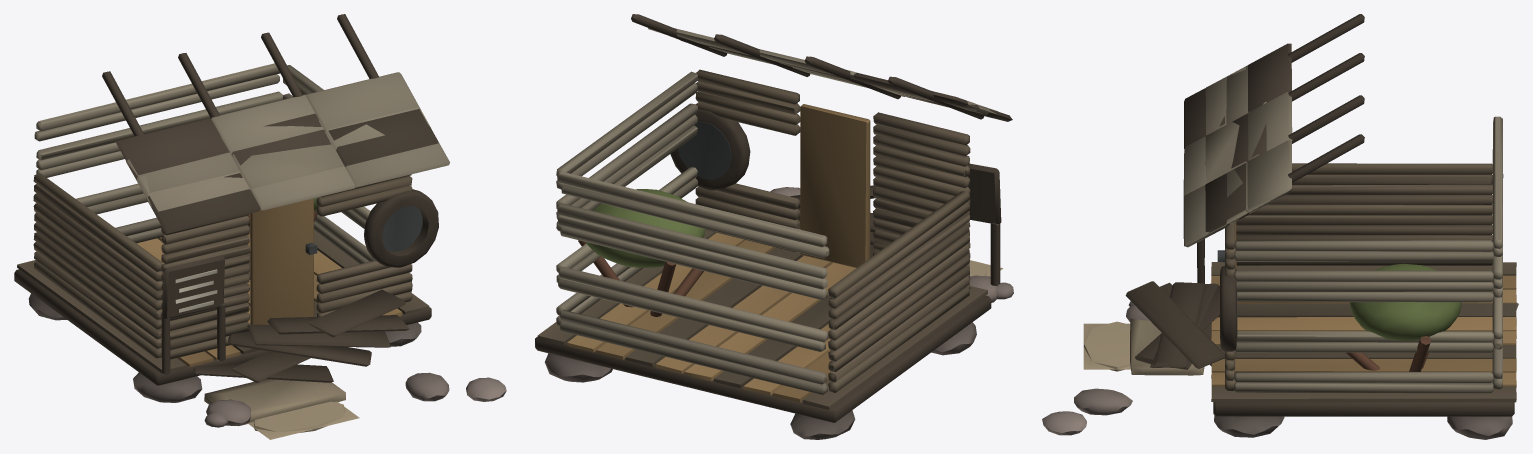
The model's file is lookout_hut_c_lod1.glb.
The picture shows the model from 3 angles, left to right: view 1: azimuth 30°, elevation 25°; view 2: azimuth 150°, elevation 25°; view 3: azimuth 270°, elevation 25°; orthographic projection. The views are drawn at different scales.
Parts seen in each view (by area): view 1: Surface.001; view 2: Surface.001; view 3: Surface.001.
Boxes of the visible parts, x1,y1,x2,y2 form: Surface.001: (14,14,506,439); Surface.001: (535,14,1013,439); Surface.001: (1042,14,1518,439).
Size of the model in its own units: 4.23 by 3.99 by 5.7.
